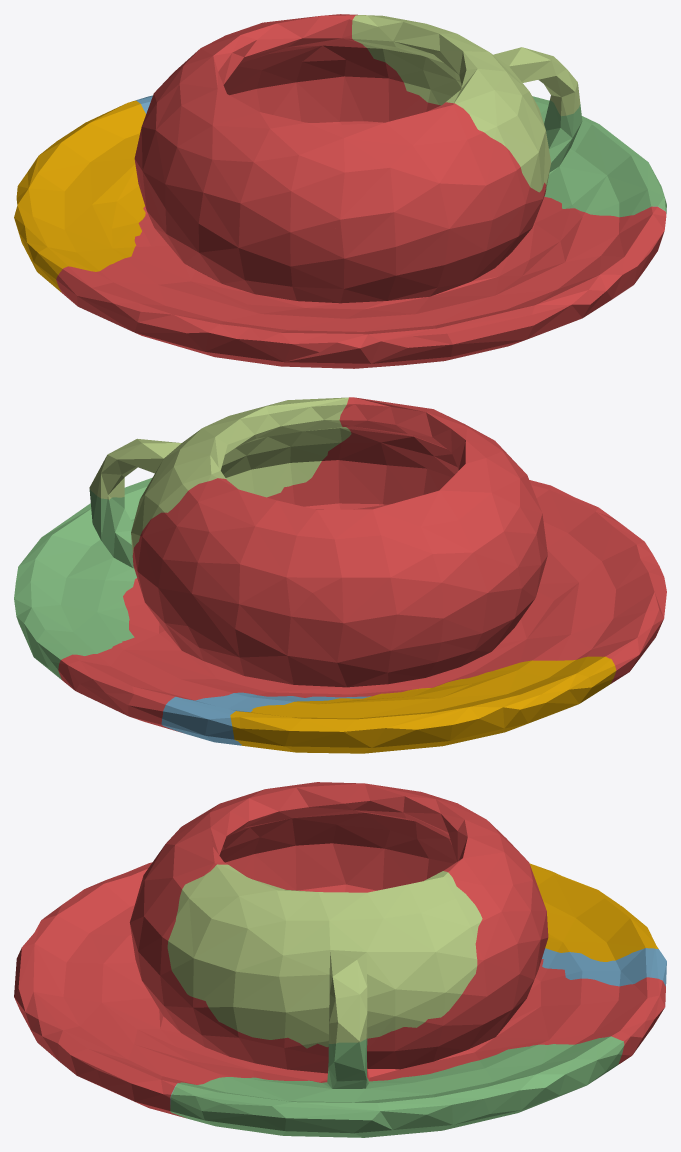
The model's file is mode_7_6pcs.glb.
3 views of the same model, one above another, from view 1: azimuth 30°, elevation 25°; view 2: azimuth 150°, elevation 25°; view 3: azimuth 270°, elevation 25° (orthographic).
Visible parts, largest first — view 1: piece_1.obj, piece_0.obj, piece_7.obj, piece_3.obj; view 2: piece_1.obj, piece_0.obj, piece_7.obj, piece_3.obj, piece_10.obj; view 3: piece_1.obj, piece_7.obj, piece_3.obj, piece_0.obj, piece_10.obj.
Boxes of the visible parts, x1=… form: piece_1.obj: x1=56, y1=14, x2=666, y2=368; piece_0.obj: x1=14, y1=100, x2=145, y2=292; piece_7.obj: x1=352, y1=15, x2=580, y2=192; piece_3.obj: x1=532, y1=96, x2=666, y2=217; piece_1.obj: x1=58, y1=397, x2=666, y2=732; piece_0.obj: x1=230, y1=656, x2=616, y2=753; piece_7.obj: x1=89, y1=397, x2=351, y2=554; piece_3.obj: x1=14, y1=477, x2=152, y2=679; piece_10.obj: x1=161, y1=692, x2=370, y2=745; piece_1.obj: x1=14, y1=782, x2=665, y2=1118; piece_7.obj: x1=167, y1=864, x2=482, y2=1048; piece_3.obj: x1=170, y1=1036, x2=624, y2=1137; piece_0.obj: x1=529, y1=863, x2=658, y2=961; piece_10.obj: x1=542, y1=948, x2=666, y2=986.
Bounding box in the file's own units: 1 × 0.3294 × 0.9986.
